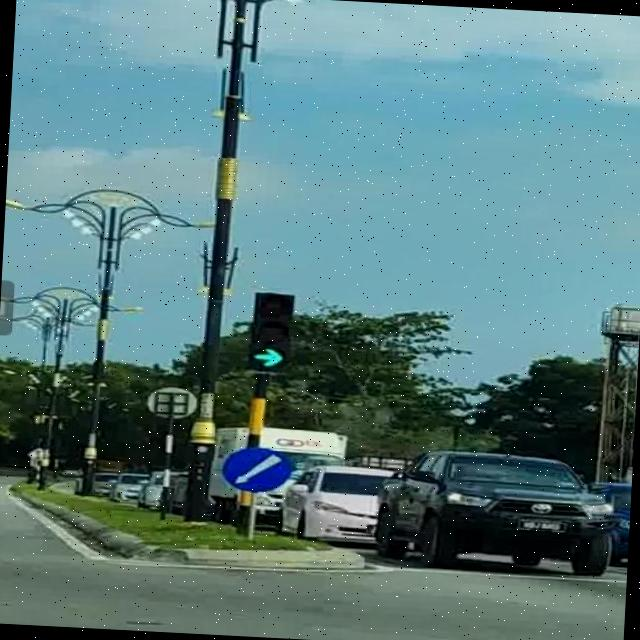green_light: (246, 291, 296, 372)
